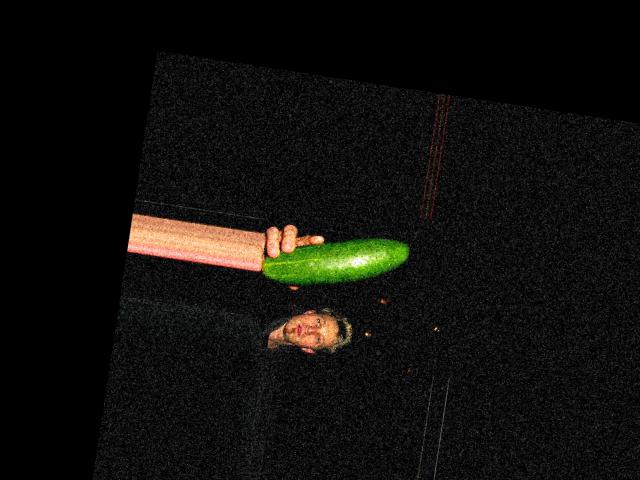cucumber: (261, 220, 410, 299)
